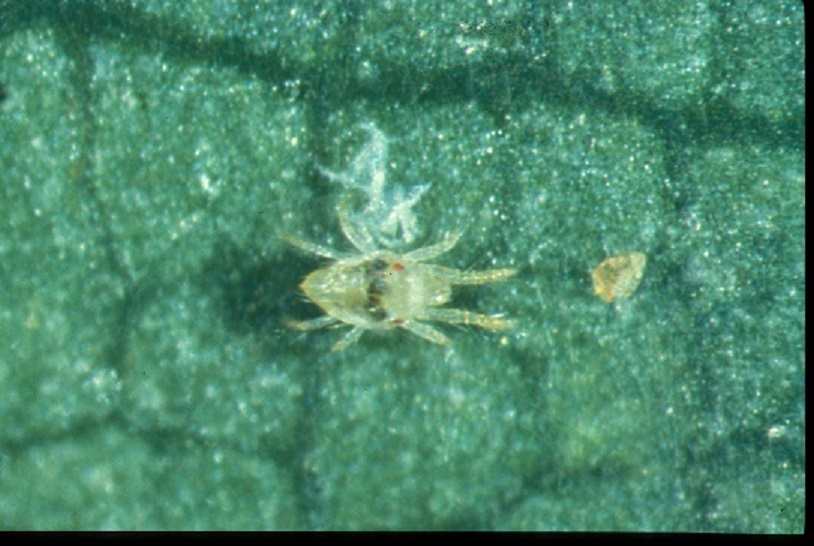Mites: (253, 192, 523, 375)
